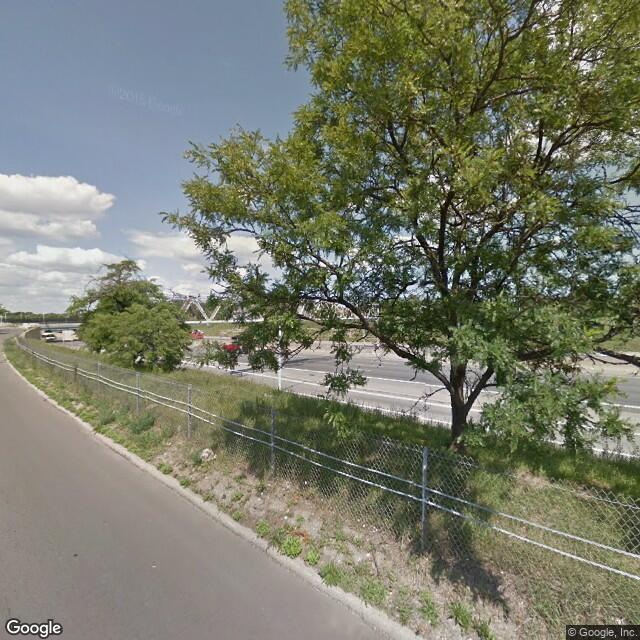litter: (201, 446, 218, 463)
